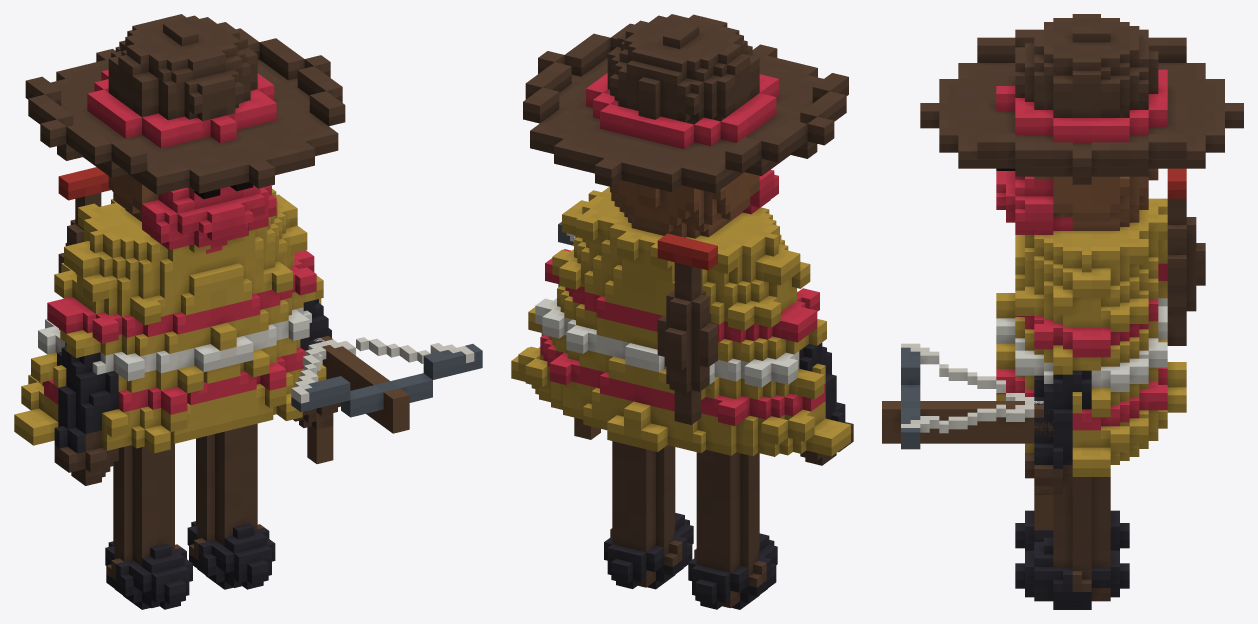
File: u_lame__trappeur.glb
The picture shows the model from 3 angles, left to right: view 1: azimuth 30°, elevation 25°; view 2: azimuth 150°, elevation 25°; view 3: azimuth 270°, elevation 25°; orthographic projection. The views are drawn at different scales.
Visible parts, largest first — view 1: lame_body, lame_weapon; view 2: lame_body, lame_weapon; view 3: lame_body, lame_weapon.
Part boxes in pixels (box(x1,y1,x2,y2)): lame_body: box(14, 14, 345, 609); lame_weapon: box(291, 336, 482, 463); lame_body: box(511, 14, 853, 609); lame_weapon: box(558, 222, 600, 439); lame_body: box(920, 14, 1243, 609); lame_weapon: box(882, 343, 1053, 529).
Size of the model in its own units: 1.1 by 1.6 by 0.95.
